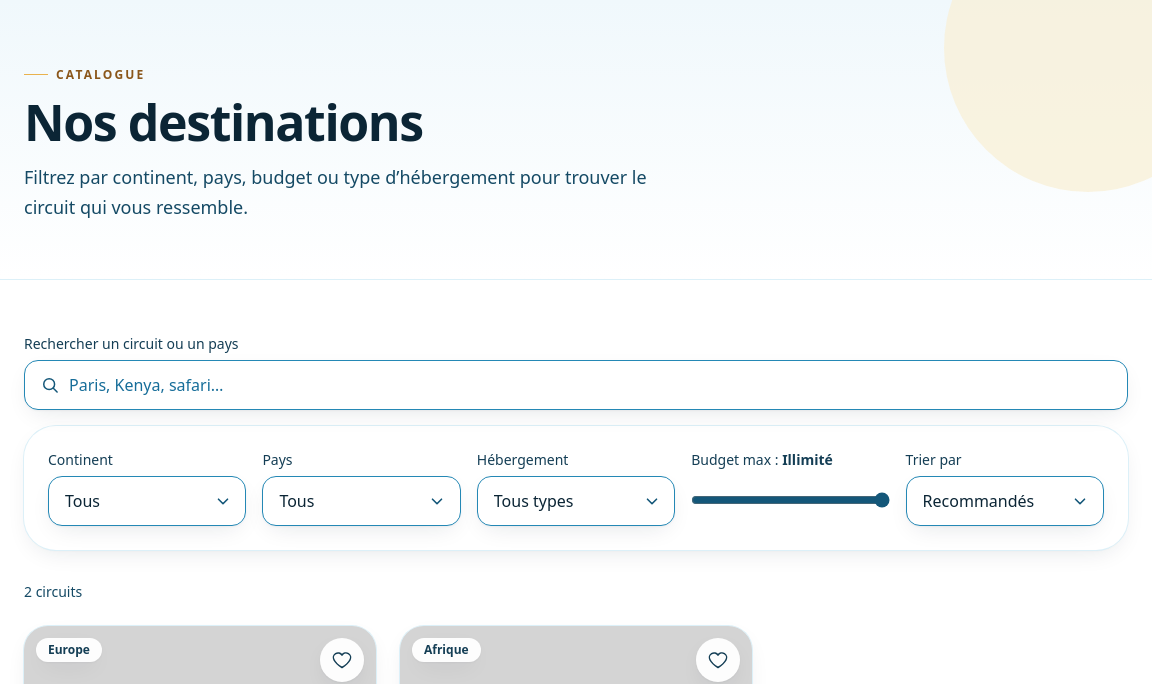
CatalogListComponent › recherche › filtre après l'anti-rebond de 250 ms et met l'URL à jour
Type "KENYA" into the search field with id "f-query". click: (576, 385)
box: left=24, top=360, right=1128, bottom=410
Wait 250 ms
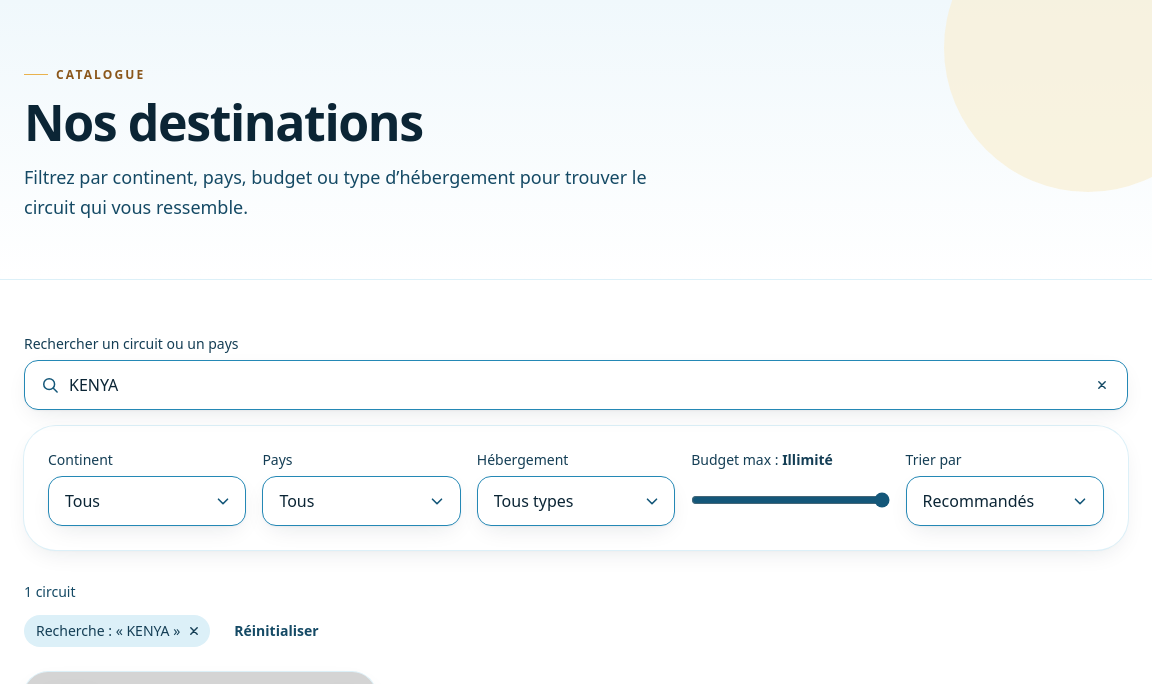
Expected: the text "1 circuit" is shown, left=24, top=582, right=76, bottom=602
